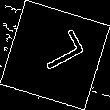L_SW: (26, 30, 84, 80)
